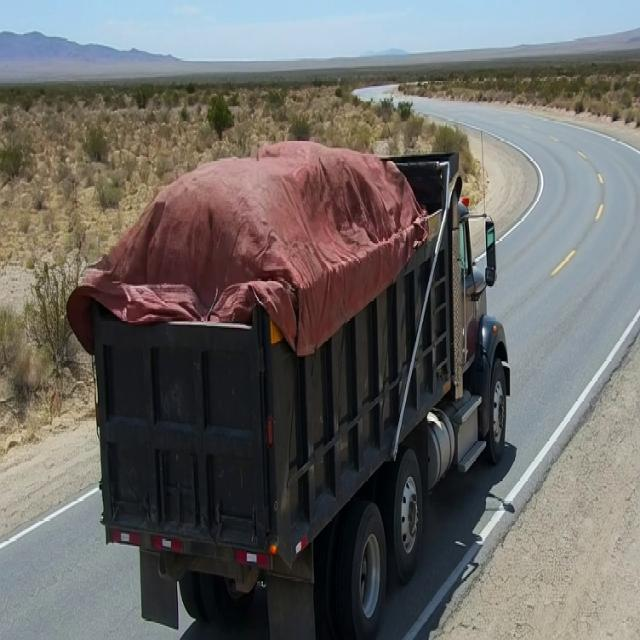trailer: (69, 137, 488, 349)
truck: (63, 128, 528, 619)
